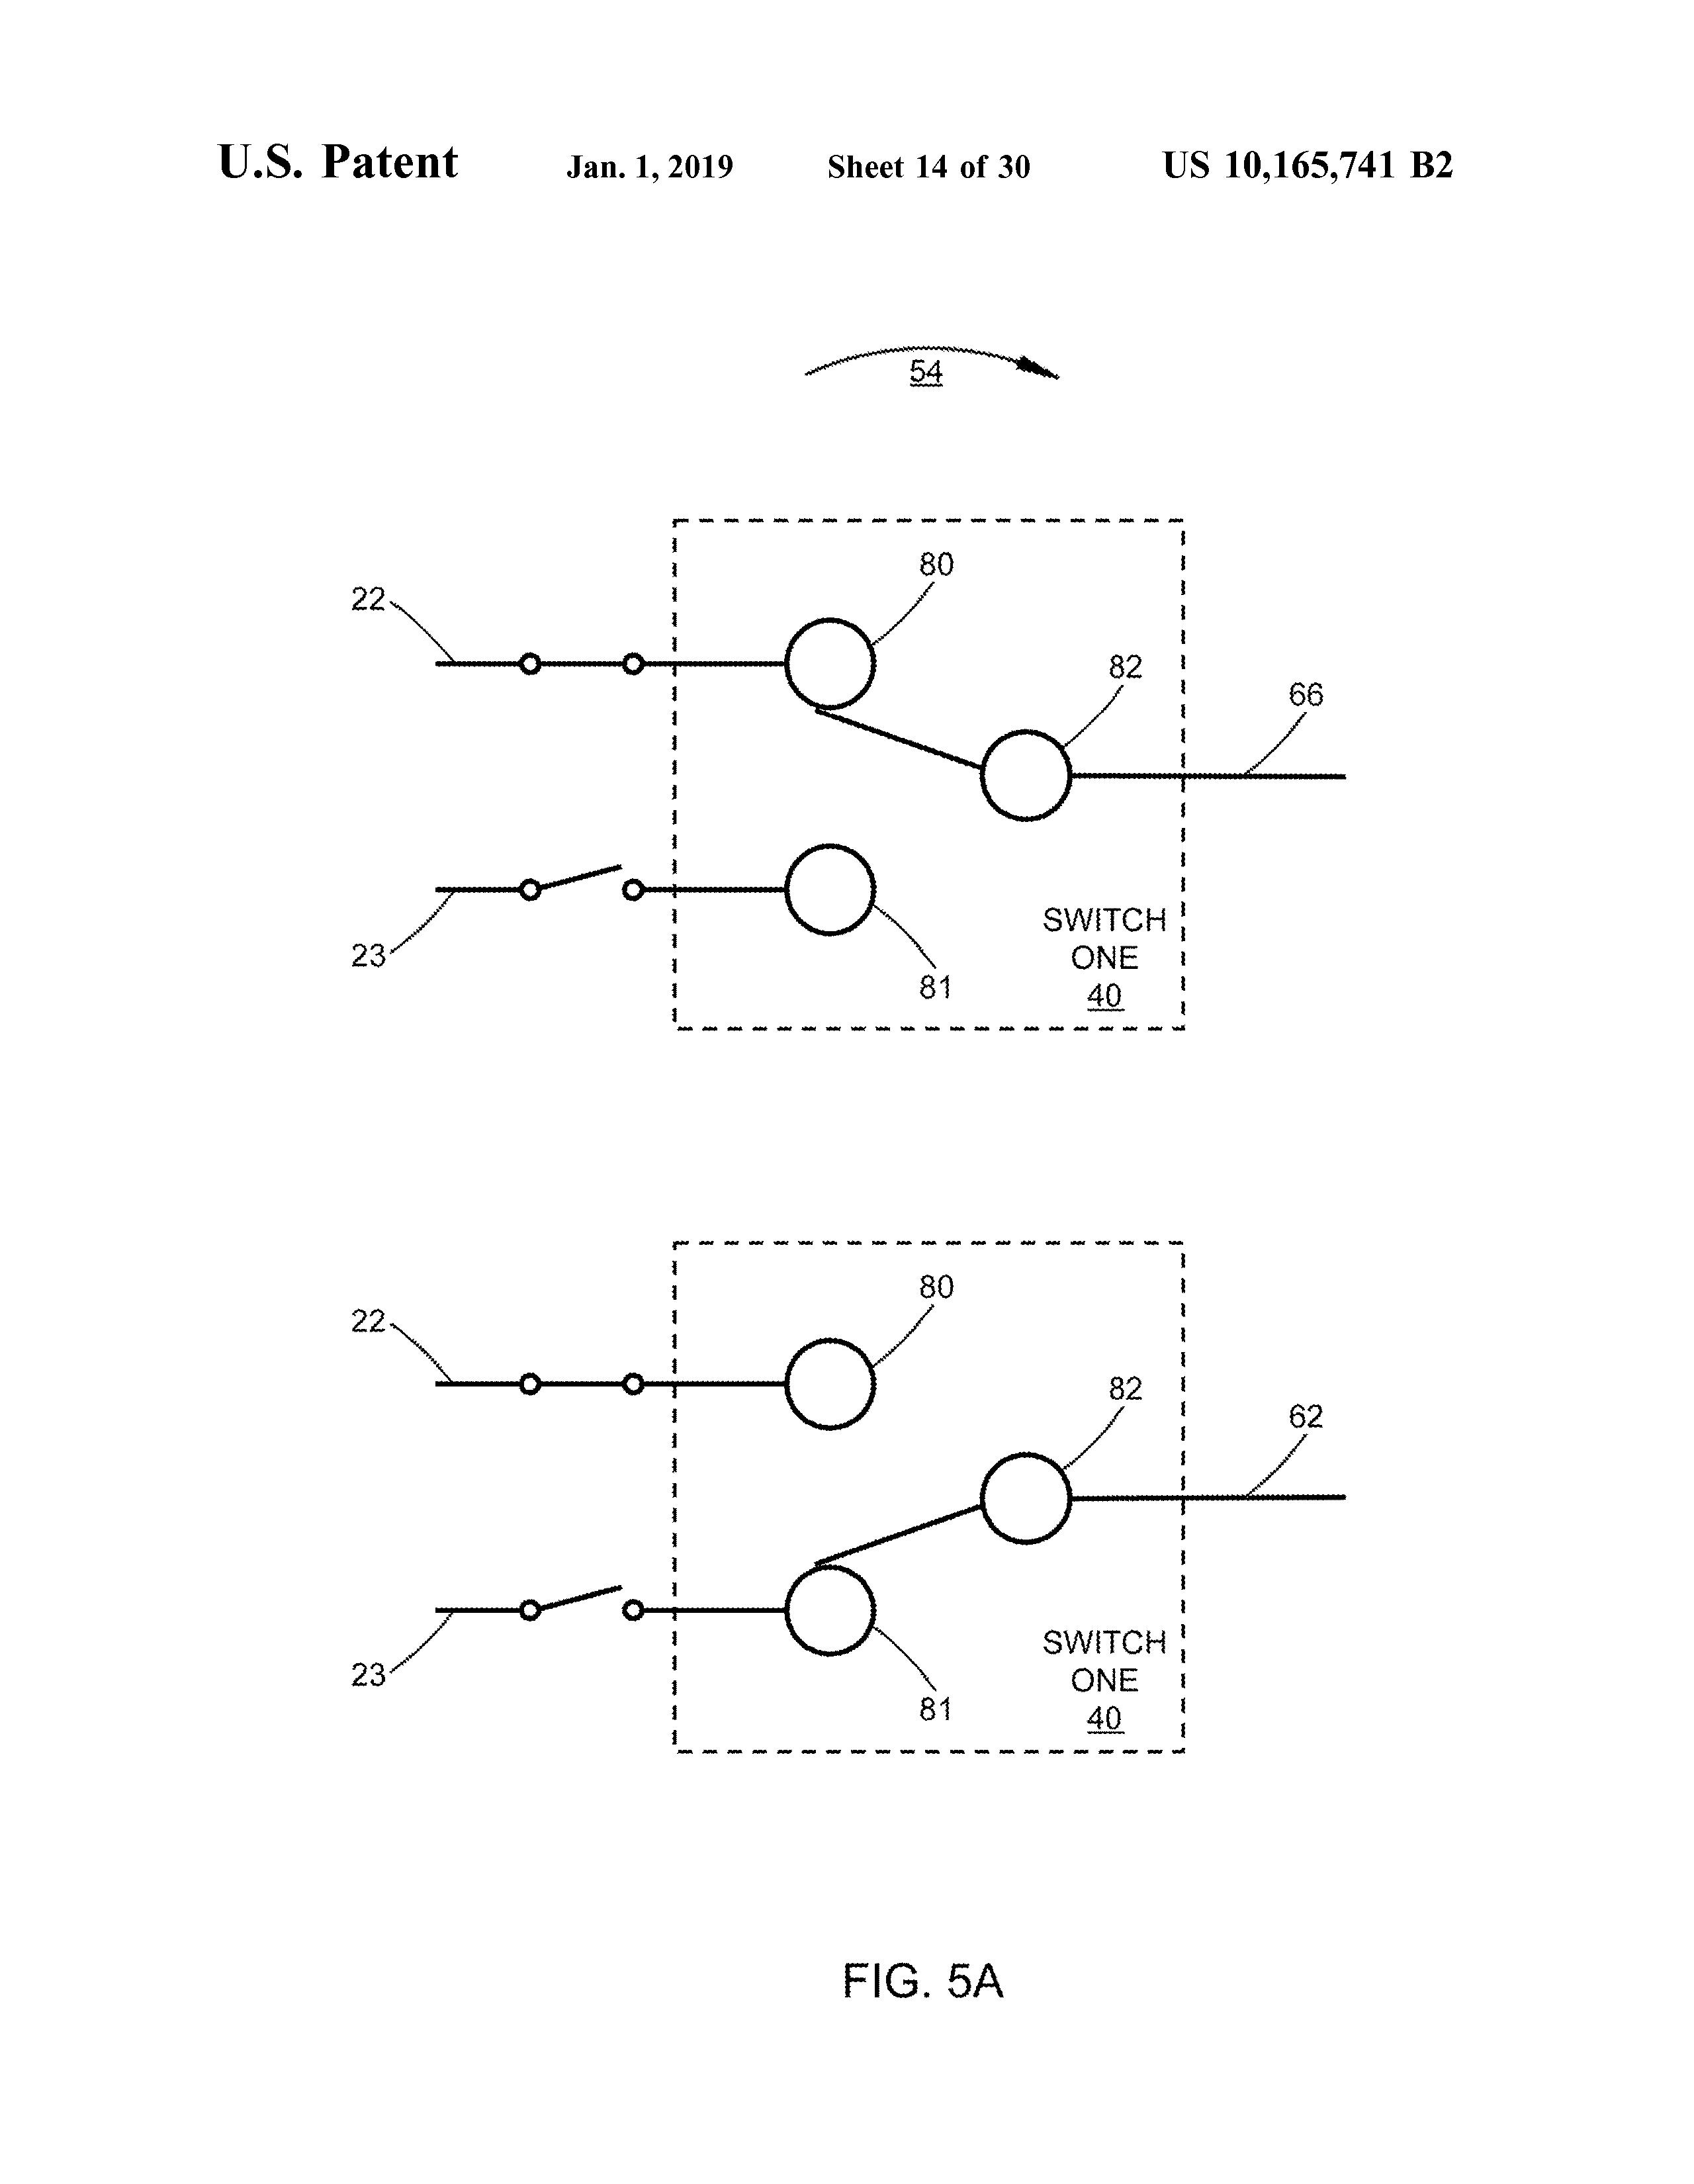patent image: (234, 300, 1378, 2010)
